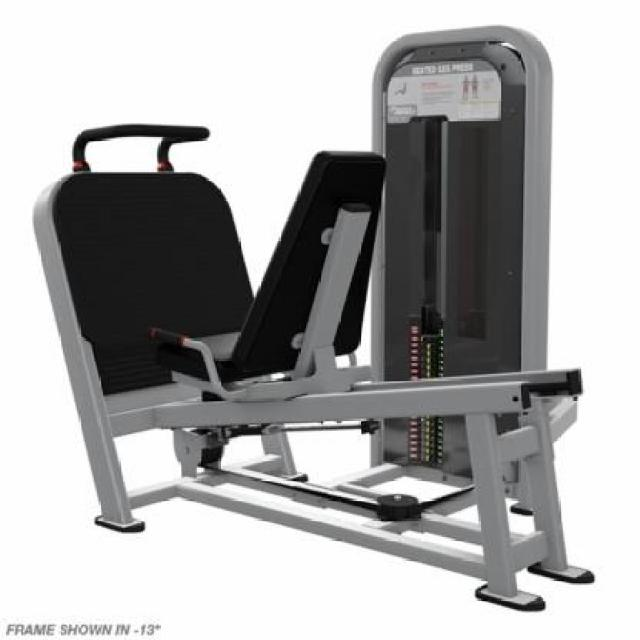leg press: (32, 29, 606, 614)
